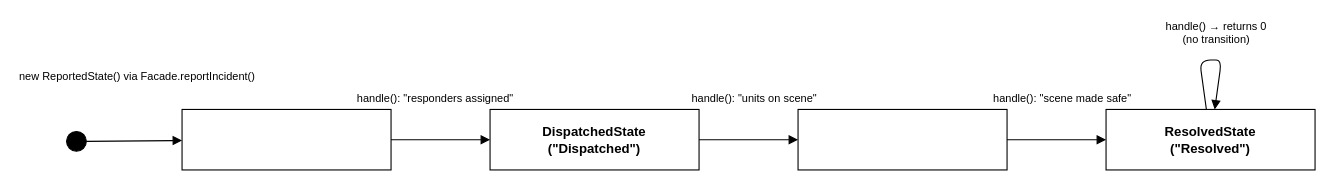
The diagram is 1334 pixels wide and 189 high, and some of its shapes have lost their labels. Here are the shapes that lost their labels. From the top down, the centre of each, then its label:
(x=286, y=139): ReportedState ("Reported")
(x=902, y=139): InProgressState ("InProgress")
